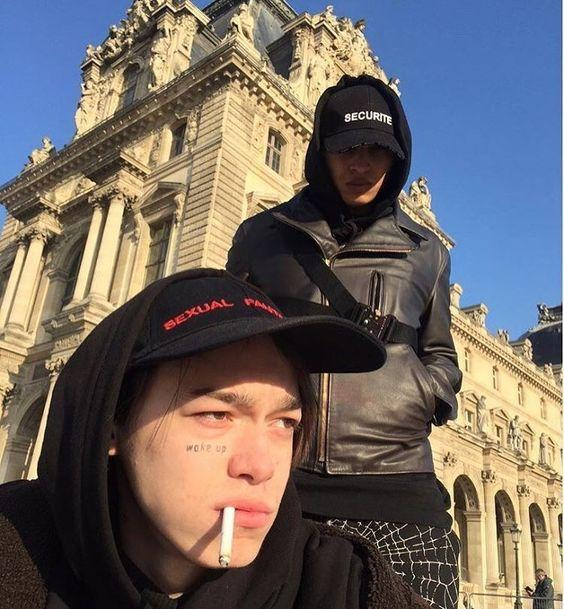cigarette: (219, 505, 235, 568)
